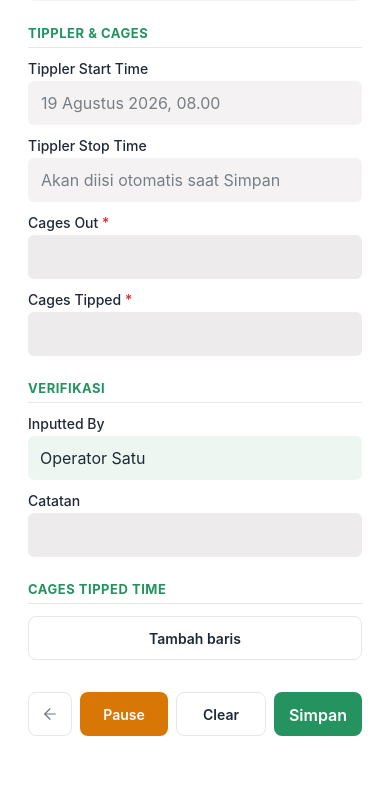
Test: FormCagesTrackView › recomputes Total Cages and Cages Remain for a row when its own checklist changes, without affecting other rows
The image size is (390, 804).
(page scrolled)
What coordinates should you click on to do the following:
click the button with test id "add-tipped-time-row-button"
I would click on:
 (195, 638)
Its box is [28,616,362,660].
(page scrolled)
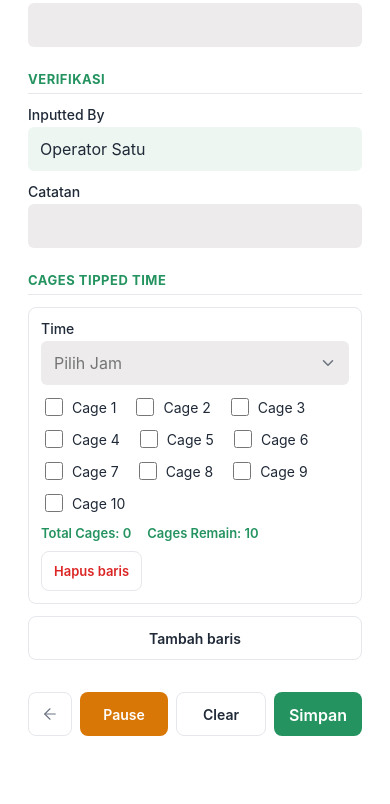
What coordinates should you click on to do the following:
click the button with test id "add-tipped-time-row-button"
I would click on:
 (195, 638)
Its box is [28,616,362,660].
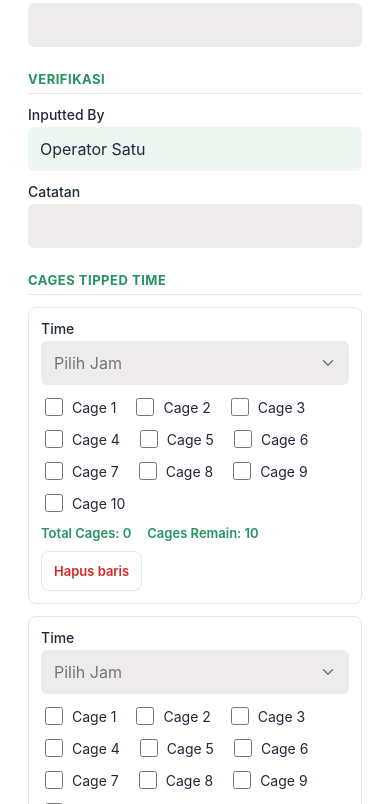
What coordinates should you click on to do the following:
click the checkbox with test id "cage-checkbox-0-1"
I would click on:
 (54, 407)
Its box is [45,398,63,416].
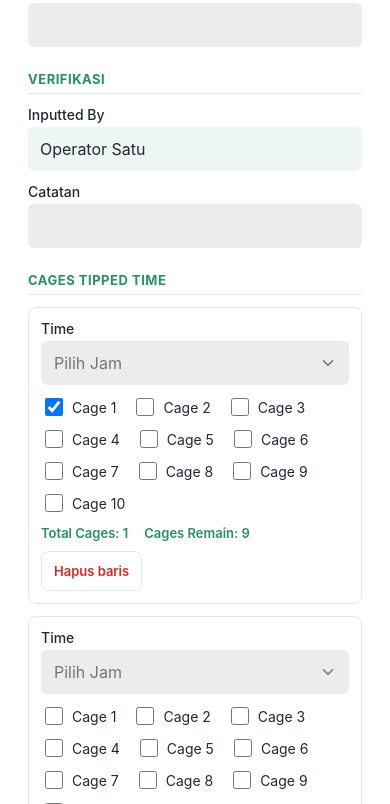
What coordinates should you click on to do the following:
click the checkbox with test id "cage-checkbox-0-2"
I would click on:
 (146, 407)
Its box is [136,398,154,416].
(page scrolled)
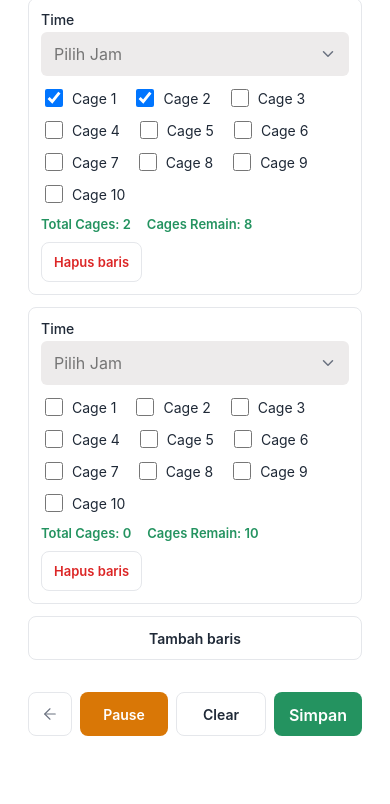
expect the text with test id "row-total-cages-1" shows "0": met, box [41,525,131,541]
expect the text with test id "row-total-cages-0" shows "2": met, box [41,216,131,232]
expect the text with test id "row-cages-remain-0" shows "8": met, box [147,216,252,232]
